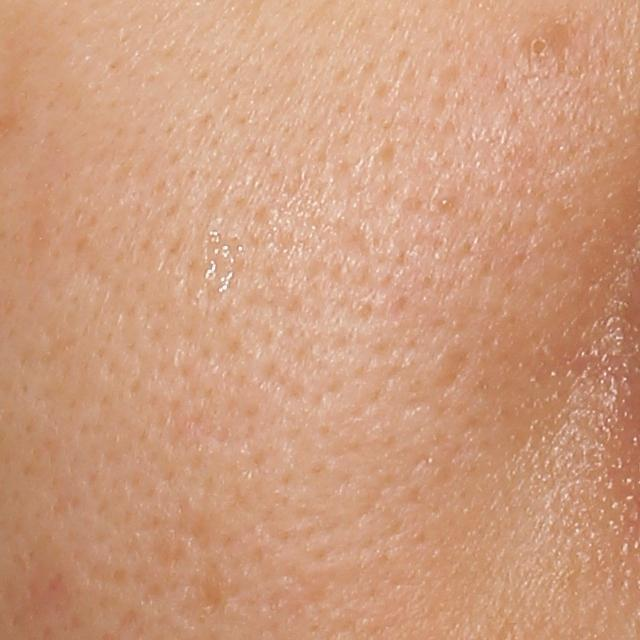atrophic_scar: (438, 347, 466, 392)
comedo: (527, 34, 551, 57)
